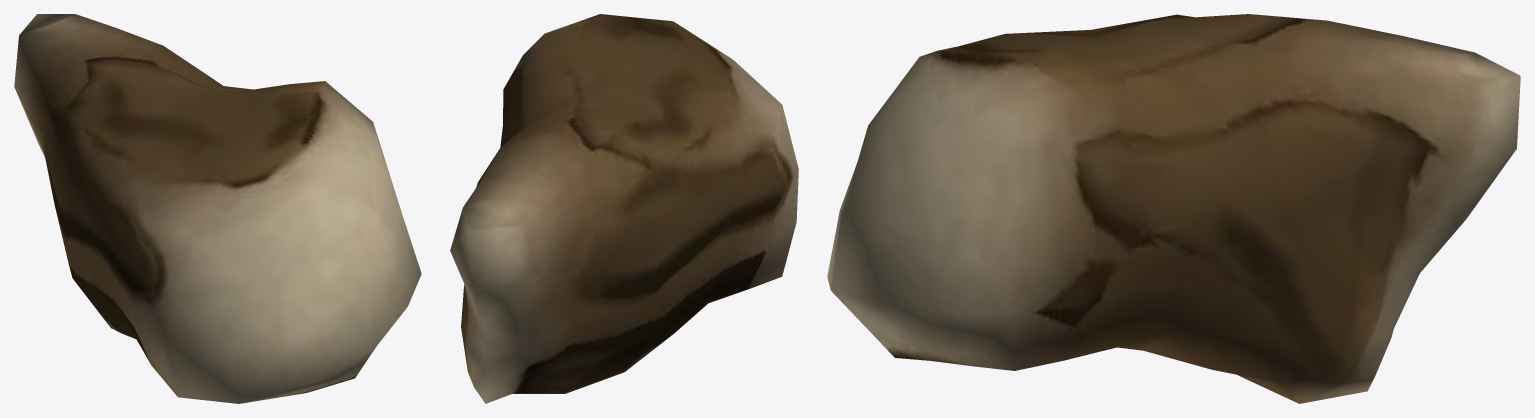
Rendered from Tarsal_III.glb.
The picture shows the model from 3 angles, left to right: view 1: azimuth 30°, elevation 25°; view 2: azimuth 150°, elevation 25°; view 3: azimuth 270°, elevation 25°; orthographic projection. The views are drawn at different scales.
Visible parts, largest first — view 1: Tarsal_III_Left1:Group39976; view 2: Tarsal_III_Left1:Group39976; view 3: Tarsal_III_Left1:Group39976.
Boxes of the visible parts, x1=… form: Tarsal_III_Left1:Group39976: x1=14, y1=14, x2=421, y2=403; Tarsal_III_Left1:Group39976: x1=450, y1=14, x2=798, y2=403; Tarsal_III_Left1:Group39976: x1=827, y1=14, x2=1520, y2=403.
Size of the model in its own units: 9.16 by 9.35 by 16.42.
1 material, 1 textured.
